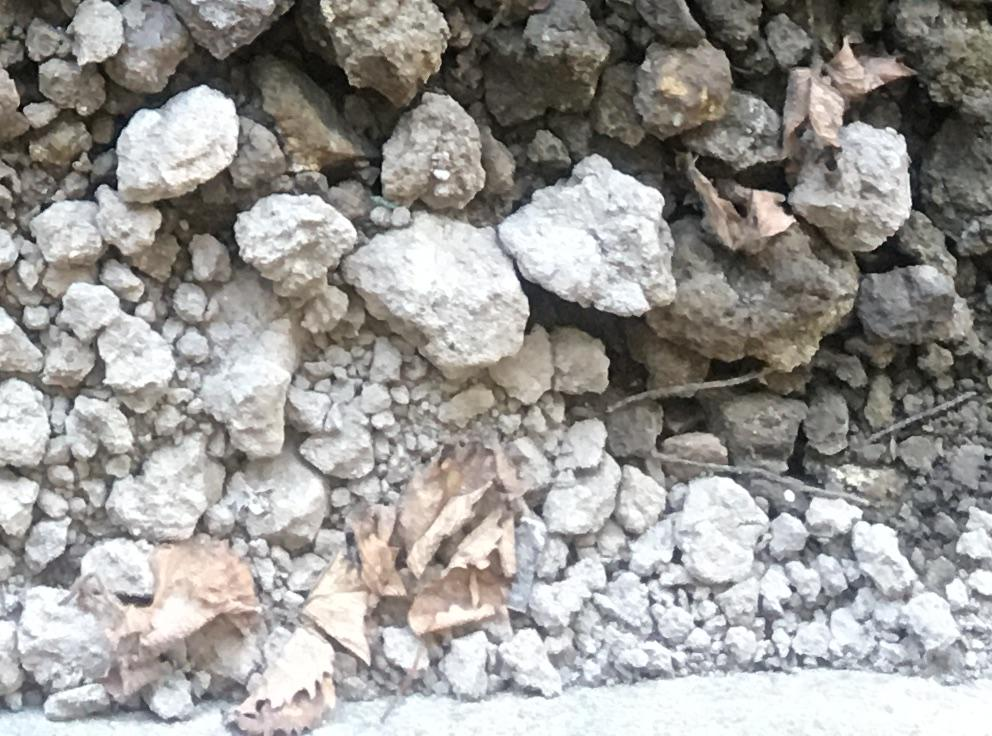block: (655, 210, 855, 384), (341, 207, 530, 379), (498, 154, 681, 324), (189, 270, 301, 459), (296, 1, 459, 105), (788, 117, 911, 254), (114, 84, 239, 215), (481, 4, 605, 127), (230, 189, 352, 305), (633, 43, 743, 144)
